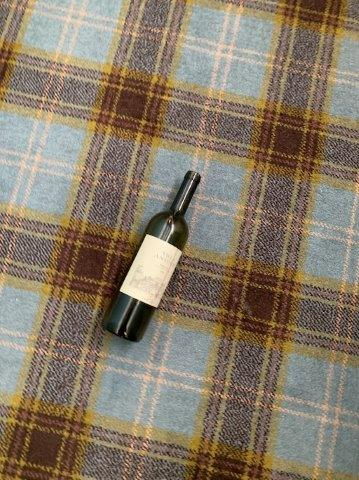botolkaca: (102, 171, 200, 344)
